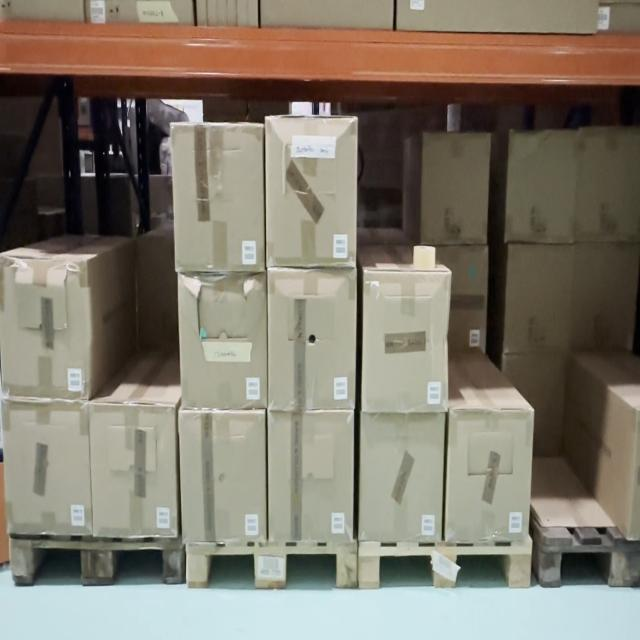box: (267, 118, 358, 266), (175, 125, 263, 268), (269, 270, 355, 410), (365, 272, 447, 412), (182, 273, 266, 407), (2, 260, 87, 392), (269, 412, 354, 541), (359, 414, 444, 542), (180, 412, 266, 538), (8, 402, 87, 534), (449, 408, 526, 540), (95, 407, 174, 535), (506, 248, 572, 350), (425, 136, 486, 243), (512, 133, 572, 240)
